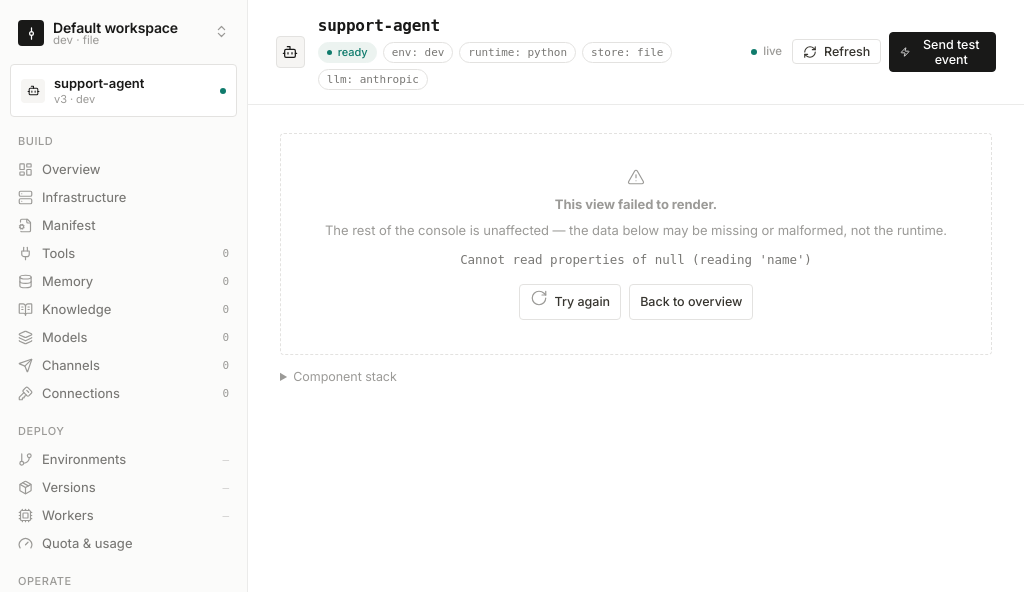
Test: a view that throws during render › recovers via Back to overview, so the hash stops pointing at the throw
Expected: the text "This view failed to render." is shown, [555,196,717,212]
Click the button "Back to overview" at (691, 302), box [629,284,753,320]
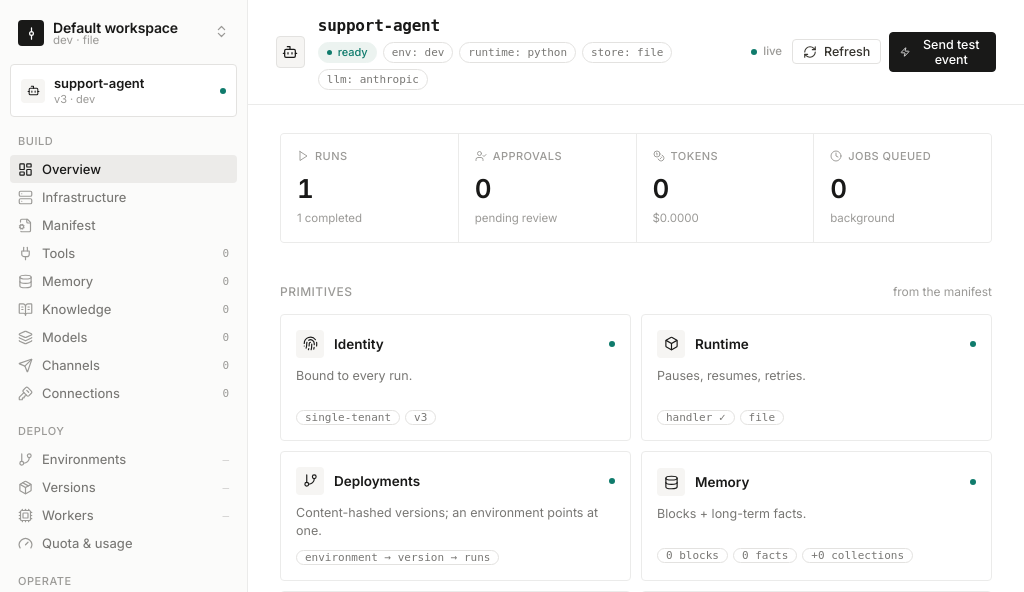
Result: the text "This view failed to render." is gone
